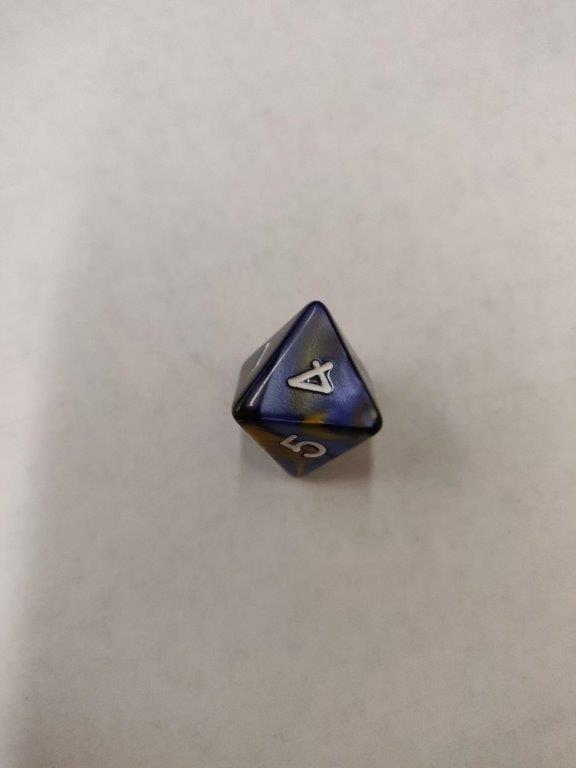d8-4: (230, 300, 380, 482)
